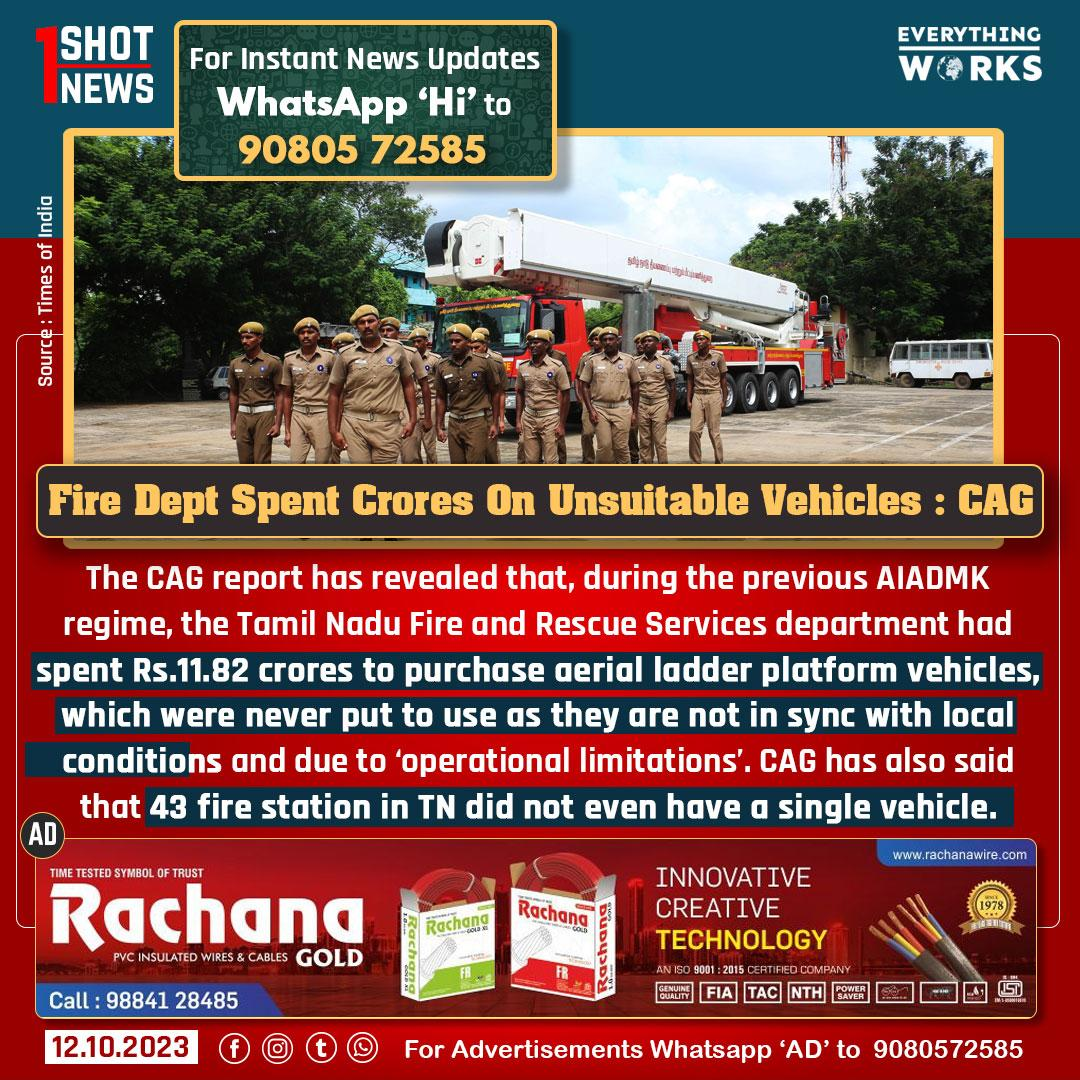Fire-engine: (428, 222, 844, 392)
